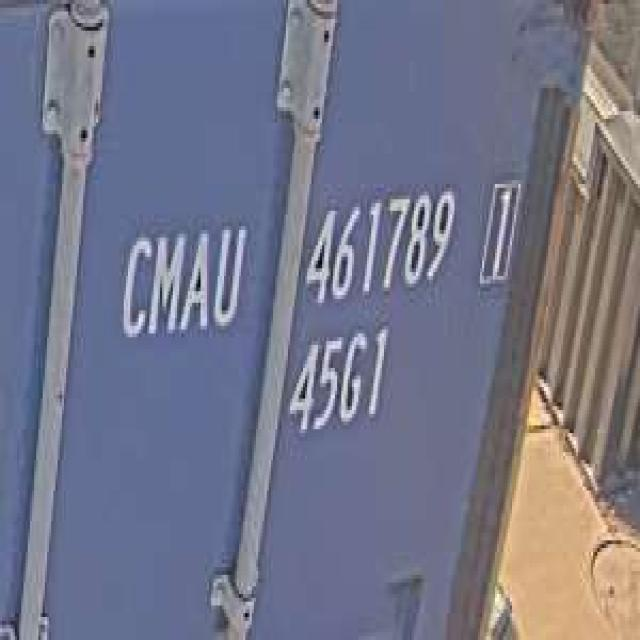dv: (476, 165, 522, 295)
owner: (115, 211, 248, 349)
serial: (303, 177, 459, 310)
size: (284, 318, 392, 445)
